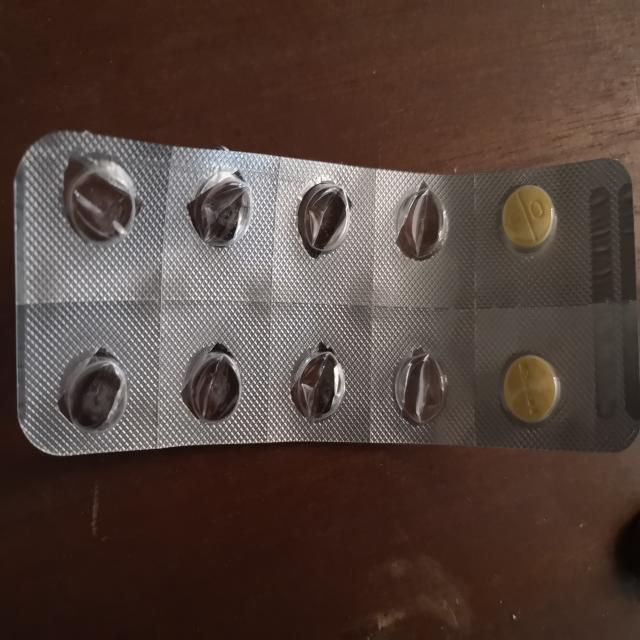Empty: (56, 143, 142, 249), (53, 334, 132, 436), (173, 332, 250, 424), (182, 155, 256, 248), (382, 341, 458, 426), (283, 333, 348, 426), (382, 173, 453, 258), (292, 169, 356, 260)
Pill: (487, 344, 569, 427), (490, 174, 566, 258)
